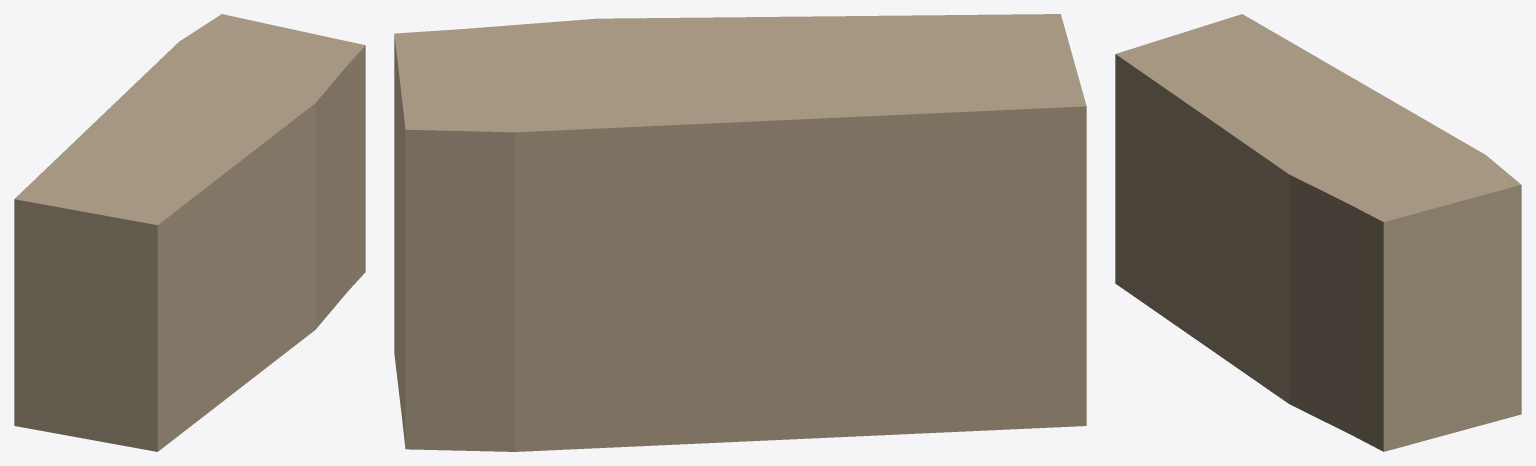
Rendered from bld_98862349.dae.
3 views of the same model, side by side, from view 1: azimuth 30°, elevation 25°; view 2: azimuth 150°, elevation 25°; view 3: azimuth 270°, elevation 25° (orthographic). The views are drawn at different scales.
Visible parts, largest first — view 1: bld_98862349; view 2: bld_98862349; view 3: bld_98862349.
Part boxes in pixels (x1,y1,x2,y2): bld_98862349: [14, 14, 365, 451]; bld_98862349: [394, 14, 1086, 451]; bld_98862349: [1115, 14, 1521, 451].
Size of the model in its own units: 15.56 by 12.82 by 8.
